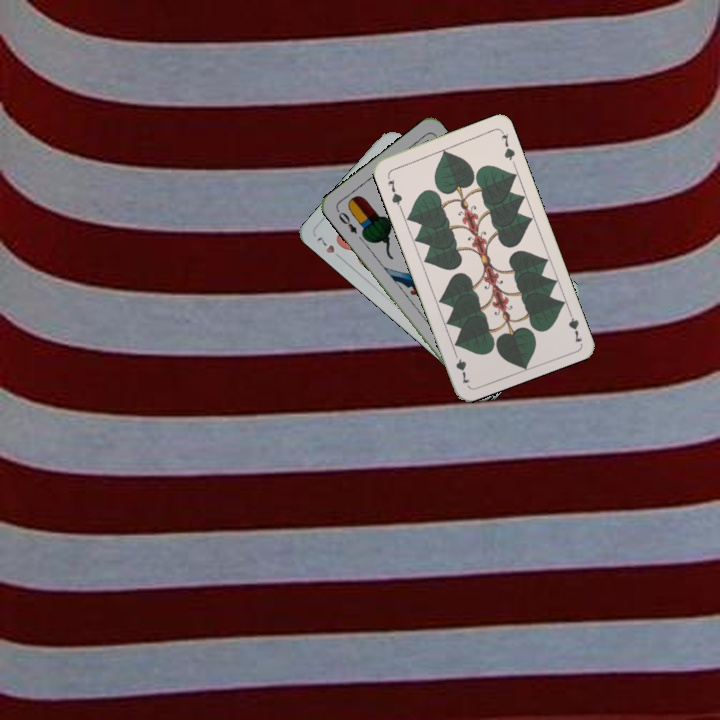EO: (333, 206, 360, 237)
G7: (564, 304, 585, 345), (383, 171, 405, 210)
H7: (312, 233, 345, 263)
